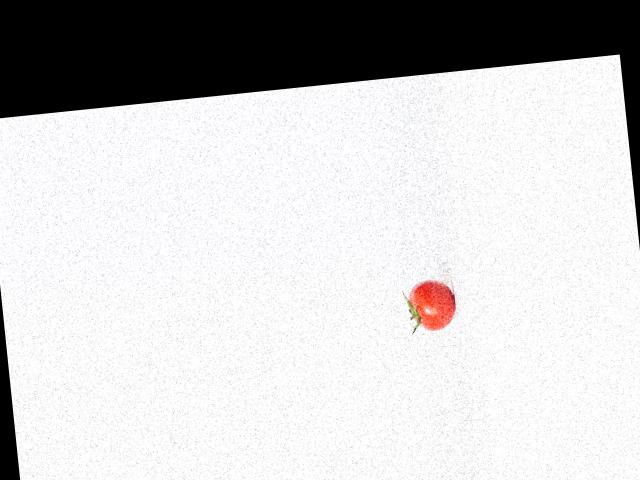tomato: (407, 276, 457, 332)
